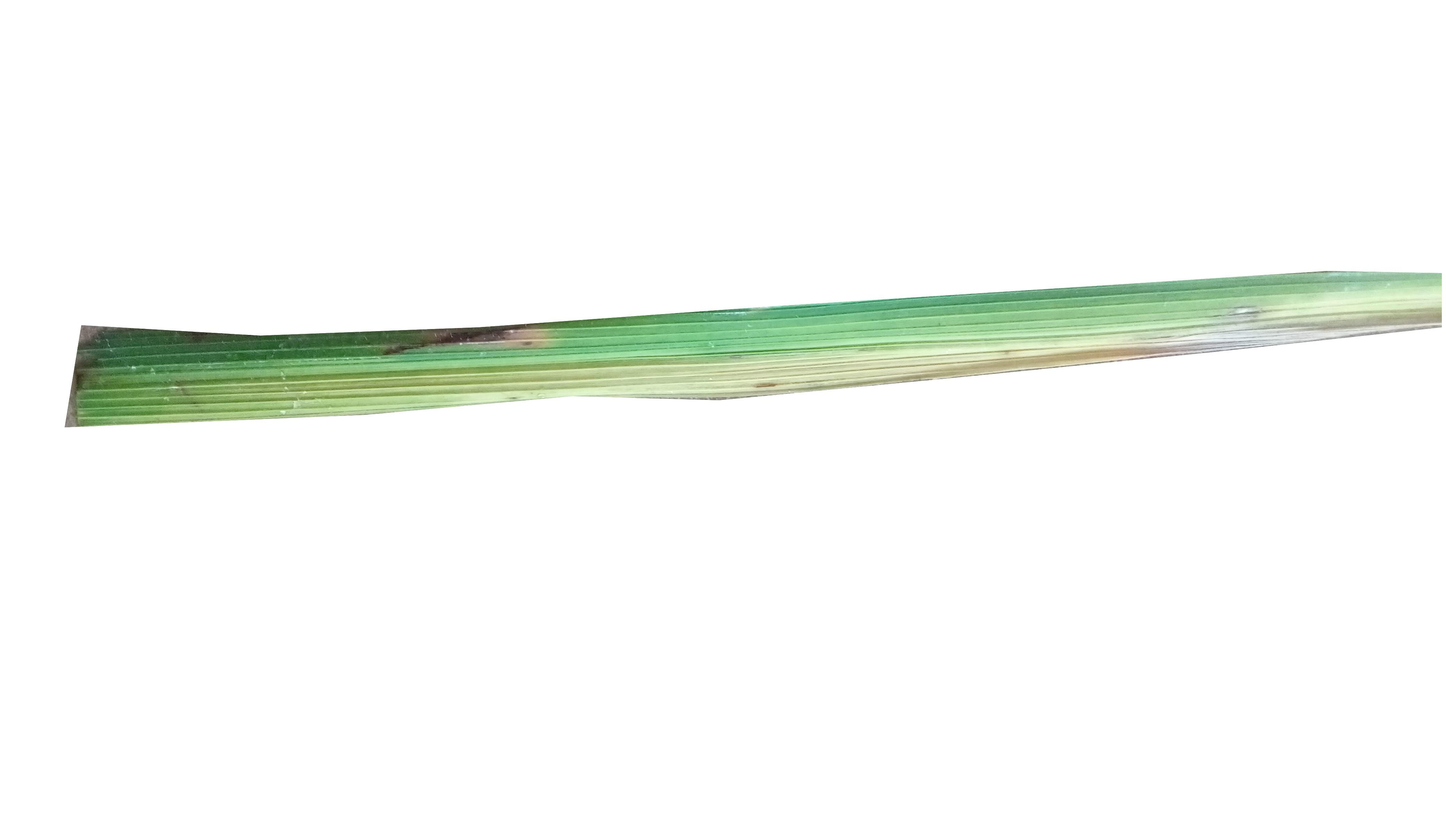Rice blast: (358, 318, 591, 367)
